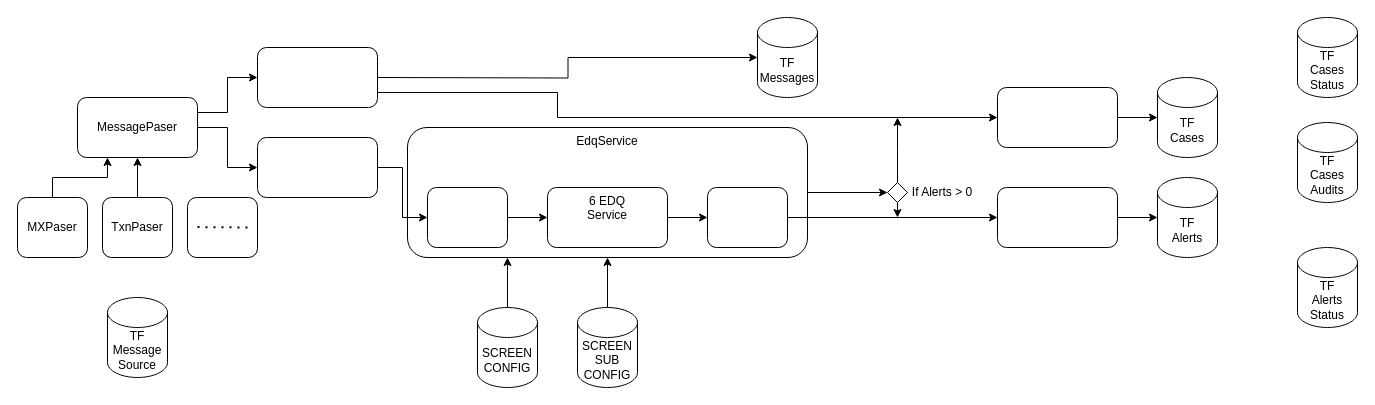
Image size: 1375x405. Some labels were removed from this diagram. Here are the shapes that lost their labels. From the top down, the centre of each, then its label:
At (x=317, y=77): "TfMessageModel".
At (x=1057, y=117): "List TfCaseModel".
At (x=317, y=167): "List ScreeningInputTag".
At (x=467, y=217): "InputMapper".
At (x=747, y=217): "AlertMapper".
At (x=1057, y=217): "List TfAlertModel".
